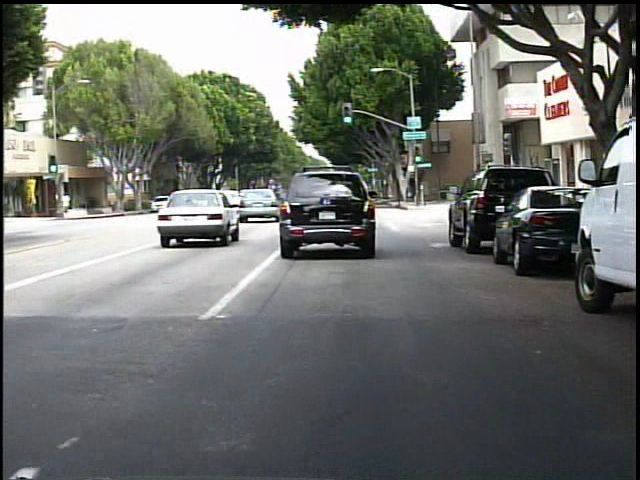person: (65, 190, 75, 217)
